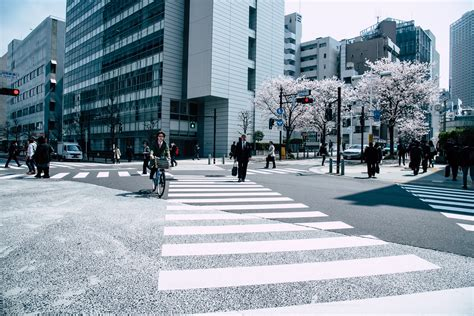bike: (144, 157, 169, 195)
pedestrian lane: (166, 178, 474, 316), (1, 172, 170, 177)
person: (150, 131, 170, 176), (234, 135, 250, 181), (34, 137, 52, 176)
traffic light: (297, 97, 314, 104)
